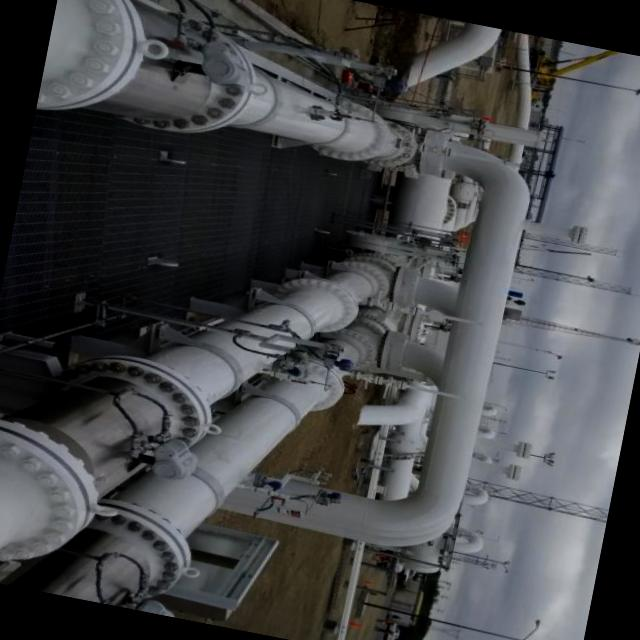gas: (233, 132, 527, 549), (0, 268, 386, 562), (11, 336, 367, 606), (45, 0, 409, 166), (359, 380, 431, 500), (410, 28, 497, 88), (361, 330, 441, 382), (391, 173, 450, 236), (384, 273, 456, 316), (507, 31, 529, 171)
